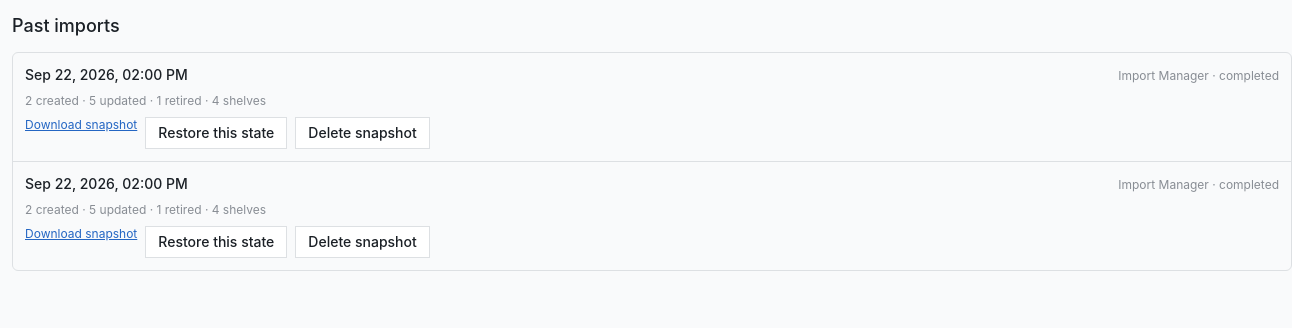
Scenario: ImportHistory › says what a restore would undo before it can be confirmed
This screenshot has width=1292, height=328.
# The older run is second in the list, so restoring it undoes the one above.
Click the 2nd button "Restore this state".
click(216, 242)  # box [145, 226, 287, 258]
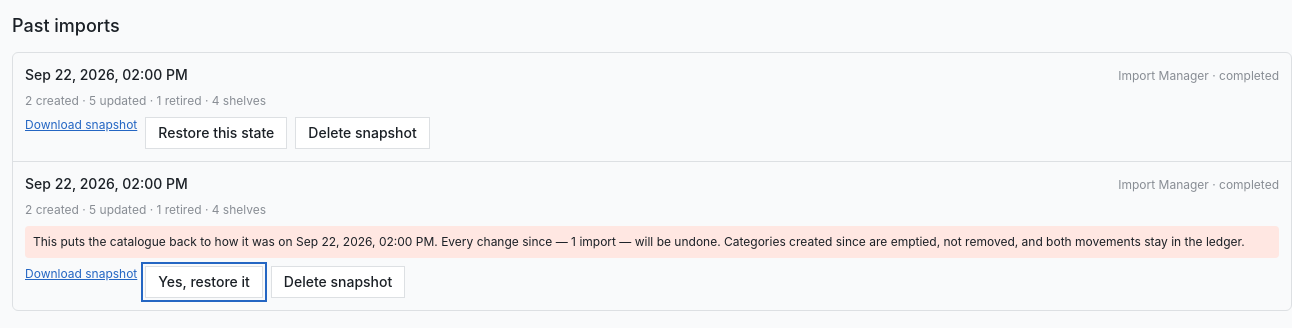
Expected: the text "emptied, not removed" is shown, [33, 234, 1245, 249]
Expected: the button "Yes, restore it" is shown, [145, 266, 263, 298]
